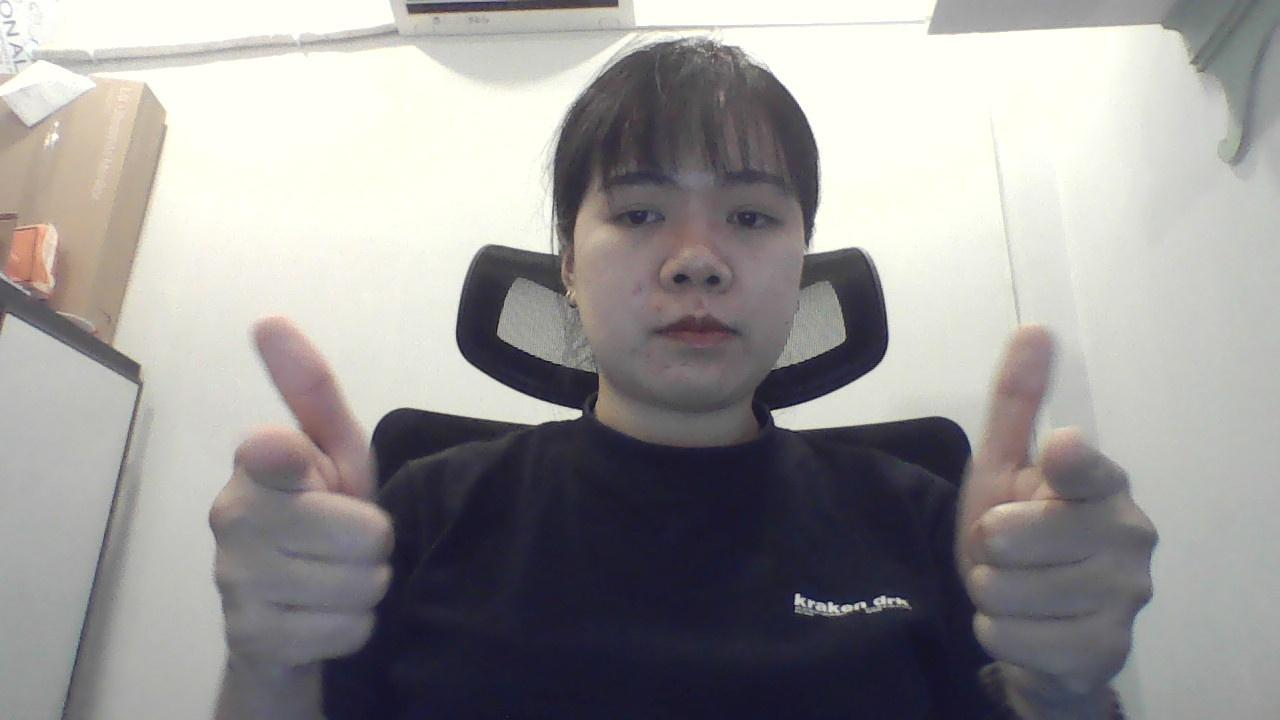G: (934, 304, 1174, 718), (200, 309, 402, 668)
